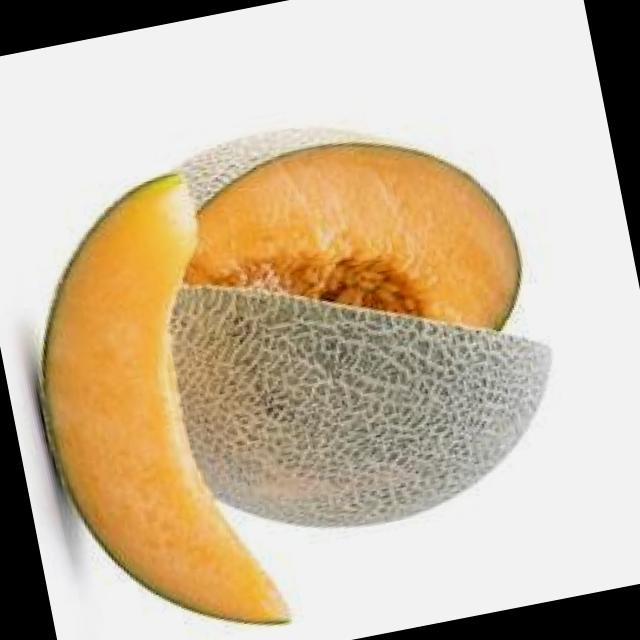cantaloupe: (180, 88, 576, 548), (0, 162, 289, 640)
